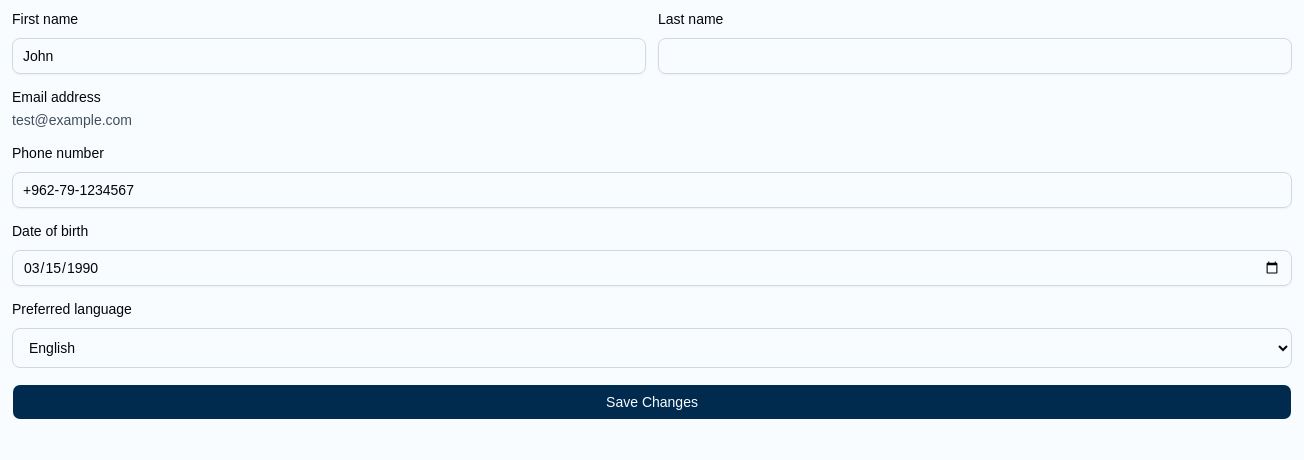
Test case: ProfileForm field rendering and validation › shows last name required error on empty submit (PF-004)
Click the button "Save Changes".
click(652, 402)  # box x1=12 y1=384 x2=1292 y2=420
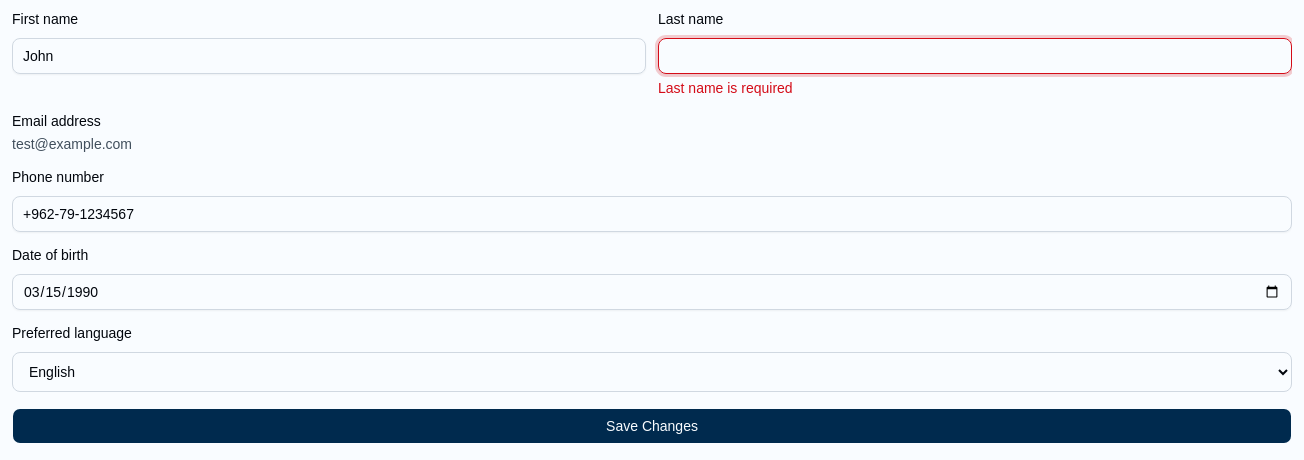
Now the text "Last name is required" is shown, box x1=658 y1=80 x2=793 y2=96
